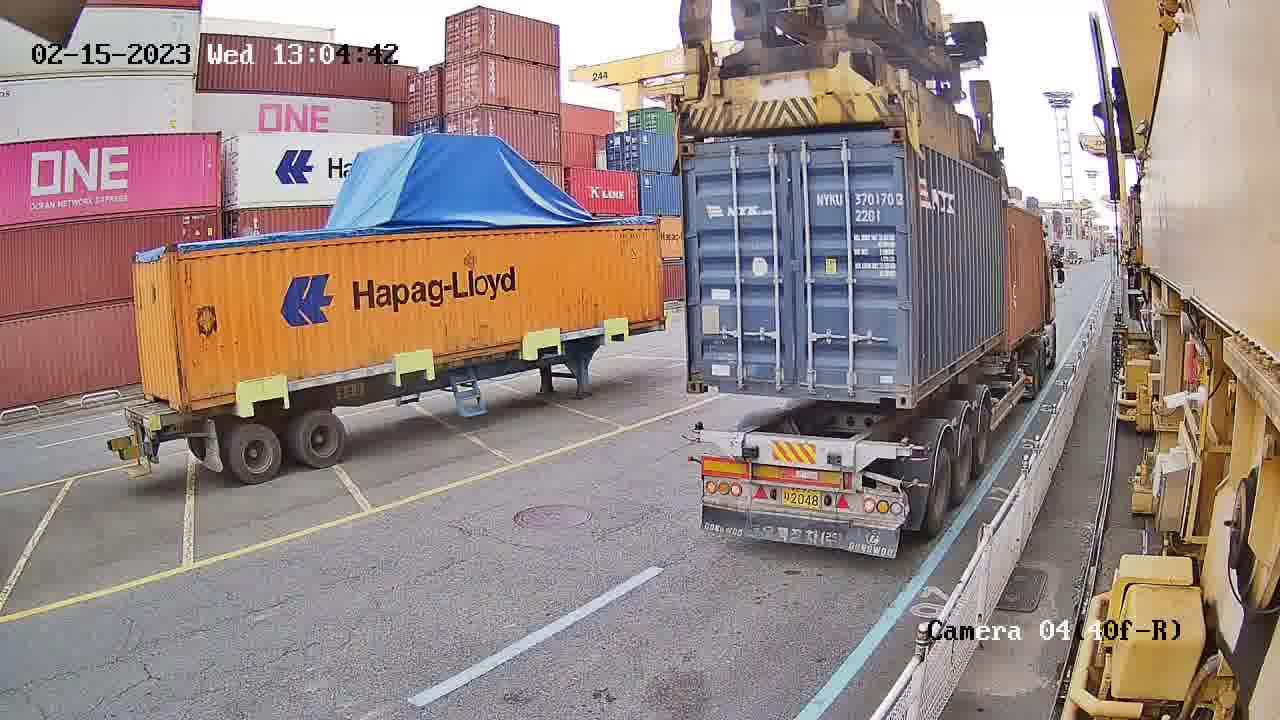Chassis: (692, 432, 905, 468)
Cone: (688, 419, 708, 447), (895, 434, 914, 463)
Hole_L: (687, 345, 727, 394)
Hole_R: (866, 367, 913, 410)
Tire: (926, 445, 951, 534), (953, 423, 970, 496), (973, 401, 992, 463)
